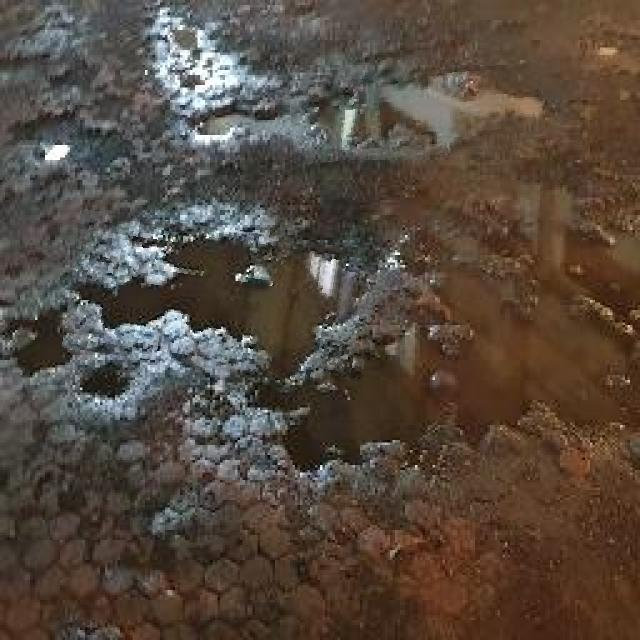puddle: (67, 221, 377, 381), (291, 68, 546, 161)
